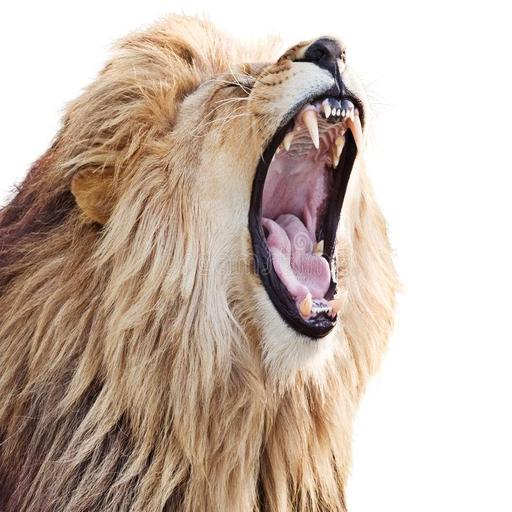Lion: (0, 6, 440, 512)
